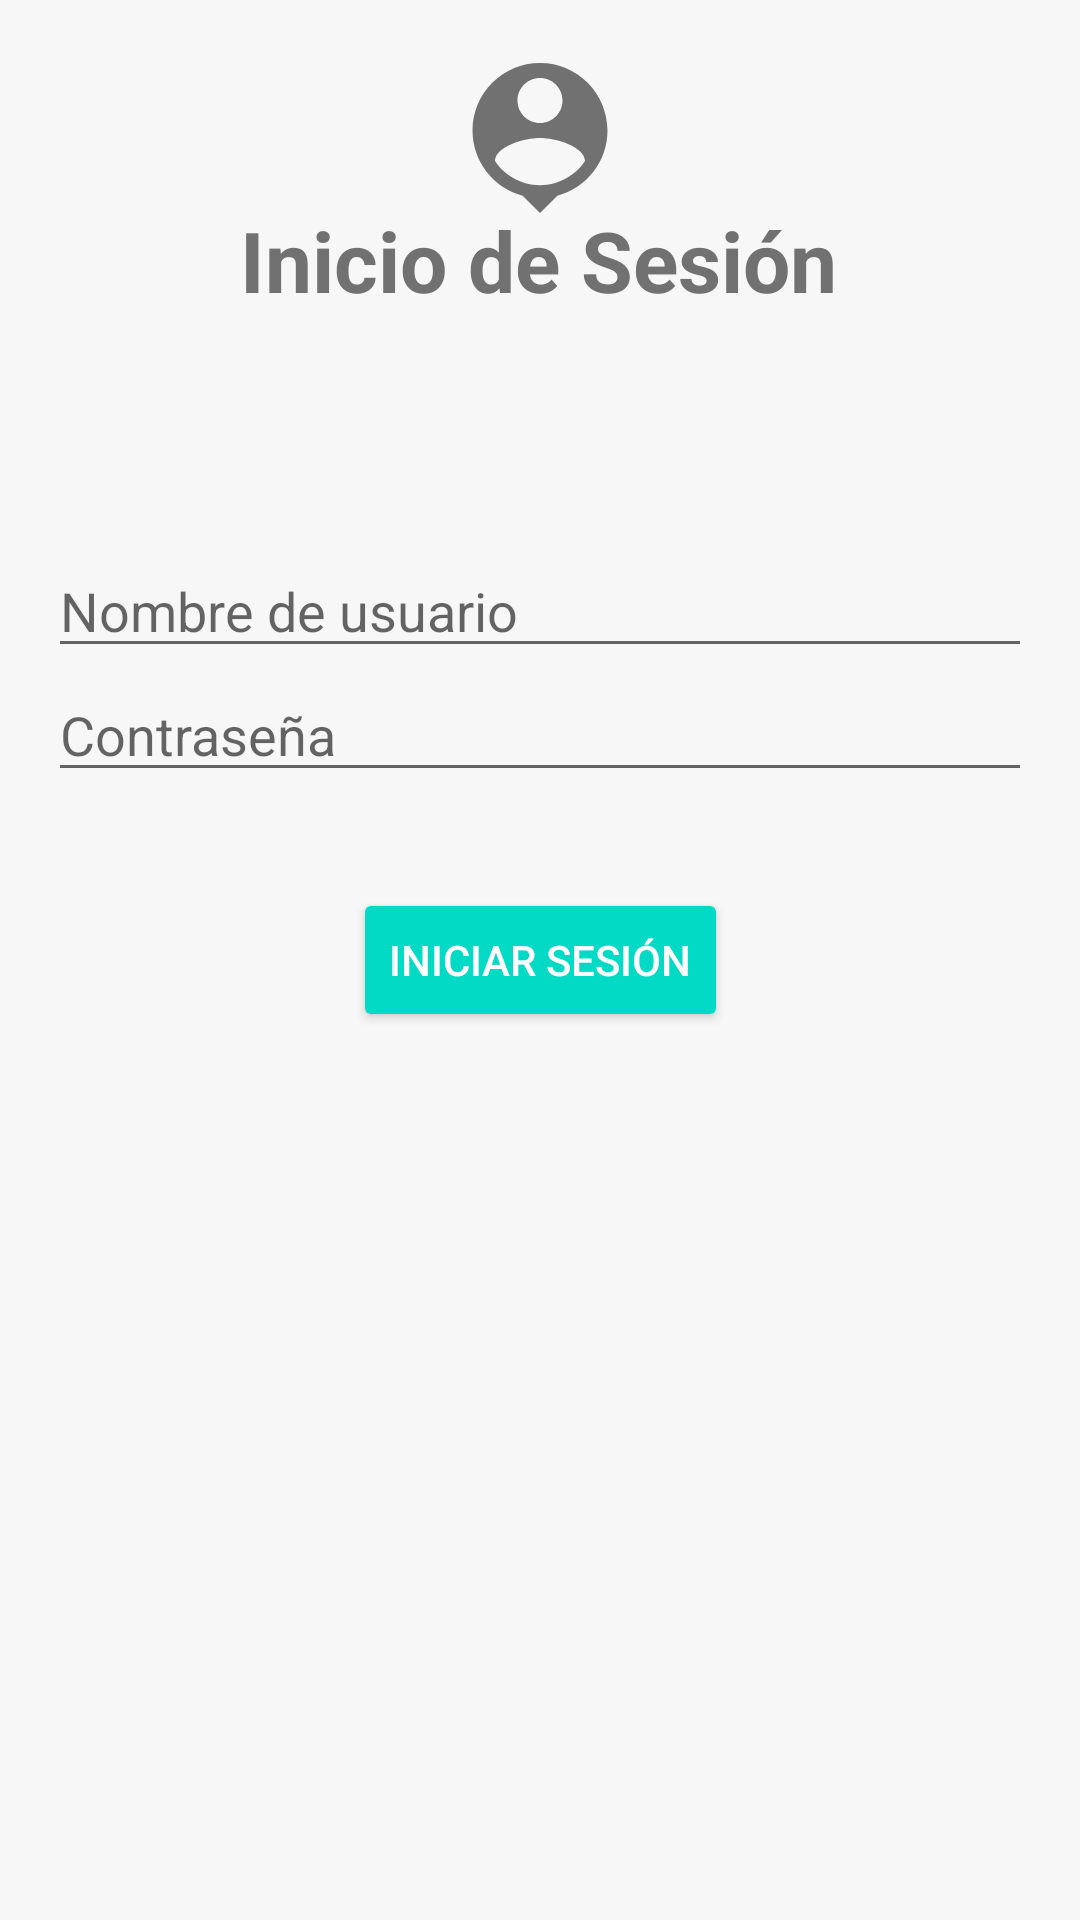

Named icons in this screenshot (1080px×1920px) and their bounding boxes, (x1=x1, y1=y1, x2=x2, y2=y2):
person: (x1=472, y1=63, x2=608, y2=213)
